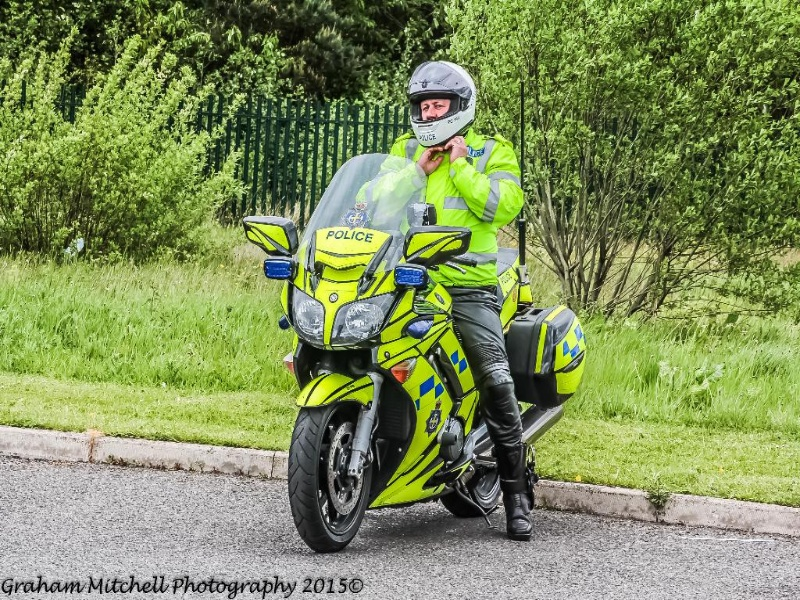helmet: (407, 58, 484, 118)
jacket: (384, 134, 524, 283)
